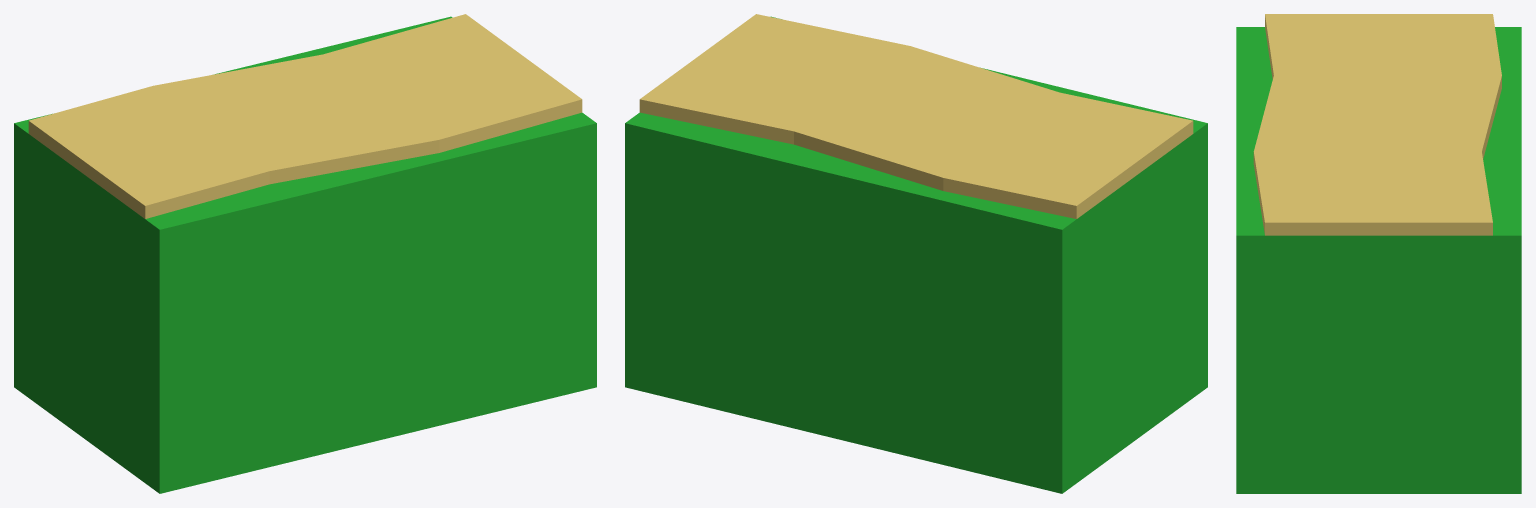
Rendered from module-edge_land_path.glb.
The picture shows the model from 3 angles, left to right: view 1: azimuth 30°, elevation 25°; view 2: azimuth 150°, elevation 25°; view 3: azimuth 270°, elevation 25°; orthographic projection. The views are drawn at different scales.
Visible parts, largest first — view 1: module-edge_land_path; view 2: module-edge_land_path; view 3: module-edge_land_path.
Part boxes in pixels (<box>): module-edge_land_path: <box>14,14,596,493</box>; module-edge_land_path: <box>625,14,1207,493</box>; module-edge_land_path: <box>1236,14,1521,493</box>.
Bounding box in the file's own units: 0.866 × 0.525 × 0.5.
